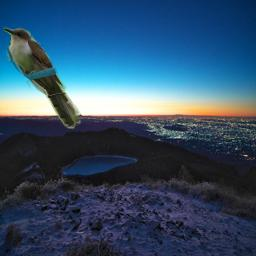Cuckoo: (2, 26, 81, 129)
